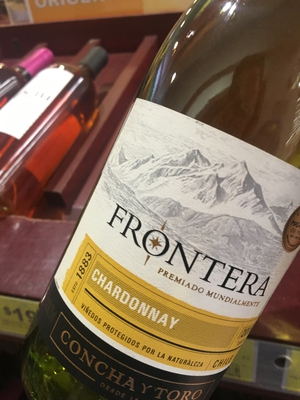frontera chardonnay: (61, 46, 300, 397)
